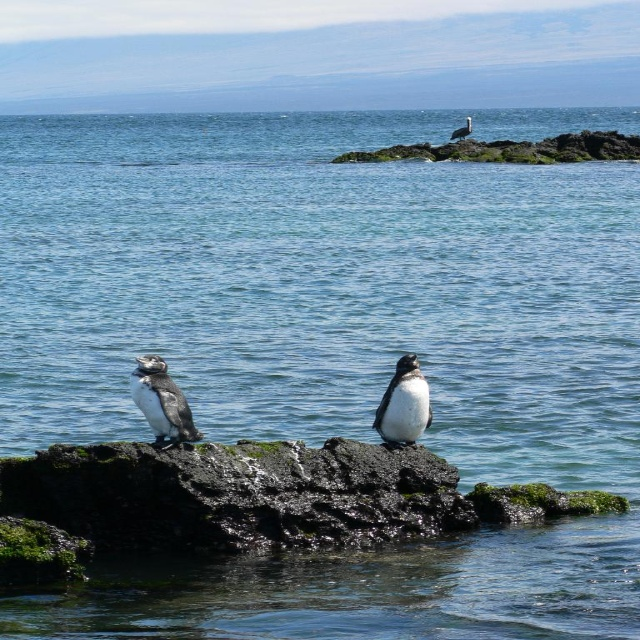Penguin: (125, 352, 211, 450), (362, 353, 445, 451)
